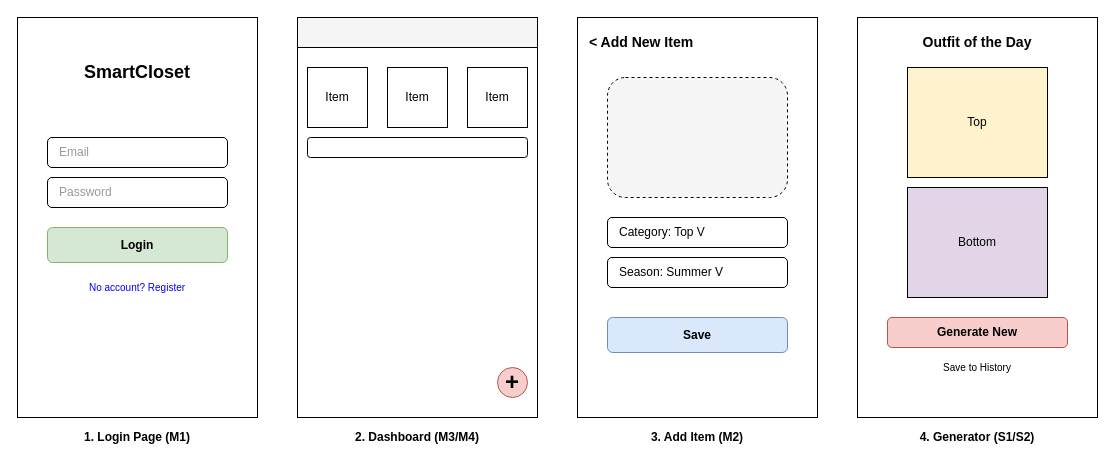
The diagram is 1115 pixels wide and 465 high, and some of its shapes have lost their labels. The centre of each missing label's shape, as x and y in pixels:
"Filter: Summer [x]" goes at point (417, 147).
"Menu" goes at point (417, 32).
"Tap to Upload Photo" goes at point (697, 137).
